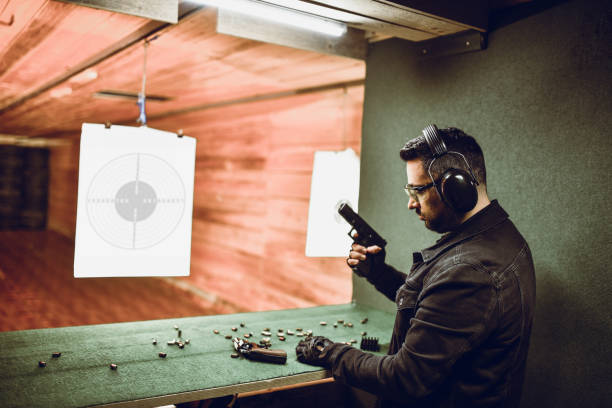gun: (335, 202, 389, 280), (239, 340, 288, 364)
